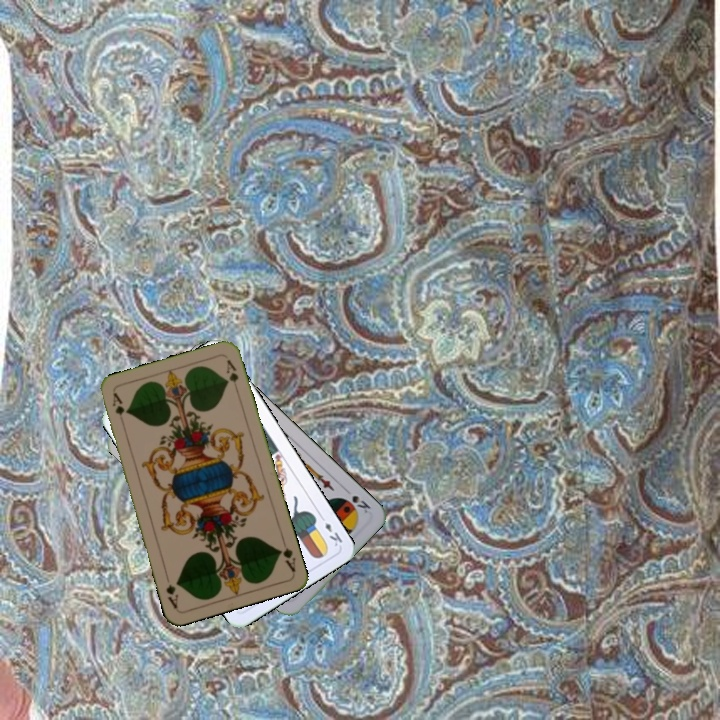EK: (316, 511, 345, 549)
GA: (274, 535, 298, 575), (108, 389, 127, 418)
SK: (348, 491, 373, 516)
